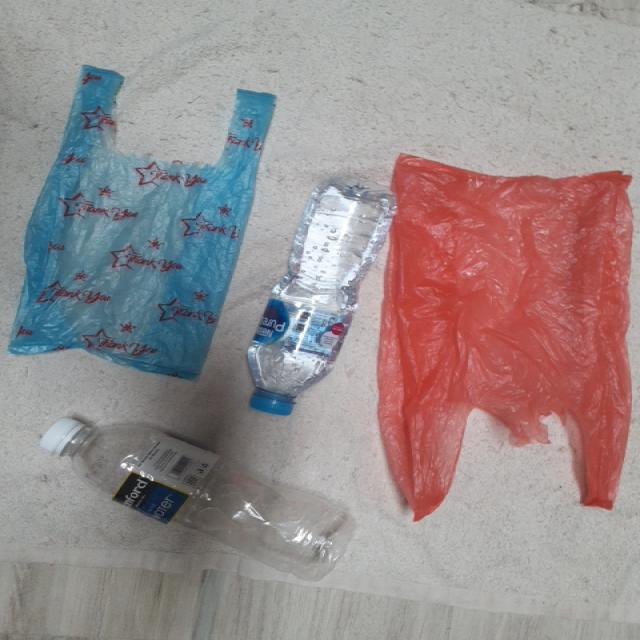Single-layer Plastic: (378, 155, 632, 519), (9, 65, 275, 378)
